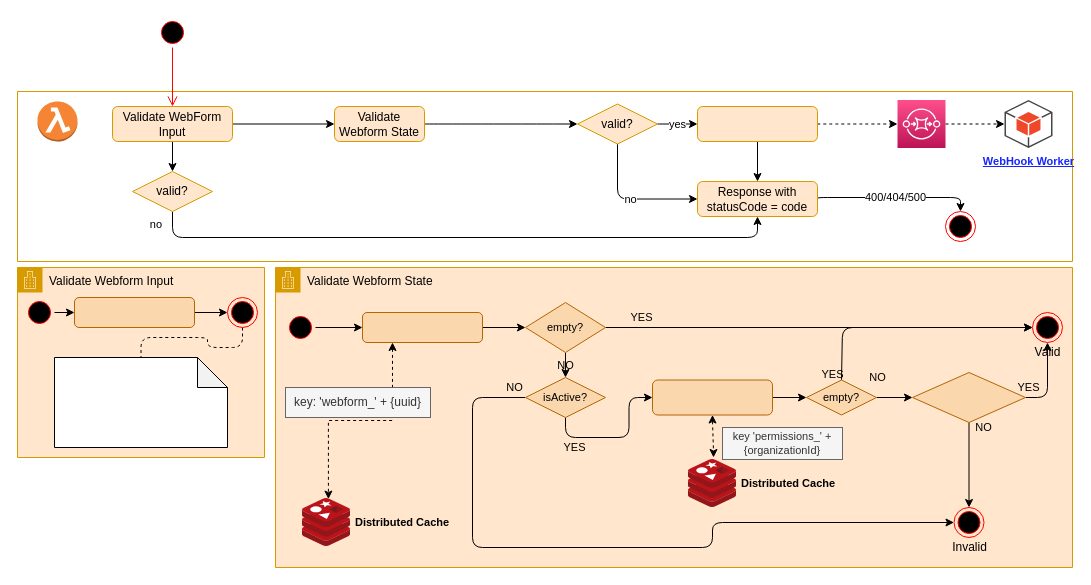
The diagram is 1091 pixels wide and 585 high, and some of its shapes have lost their labels. Here are the shapes that lost their labels. From the top down, the box of each, then its label:
(36, 100, 78, 142): input-webform
(696, 106, 818, 142): Send Webform input to Queue
(896, 99, 946, 148): webhook-input
(74, 296, 194, 328): uuid && contact.hasPhone()
(362, 312, 482, 342): Get Webform
(54, 356, 228, 448): 0 ------------------------------- { code: 400 message: "Data required" }
(652, 379, 772, 415): Get Organization Permissions
(912, 372, 1026, 422): webhooks==true?
